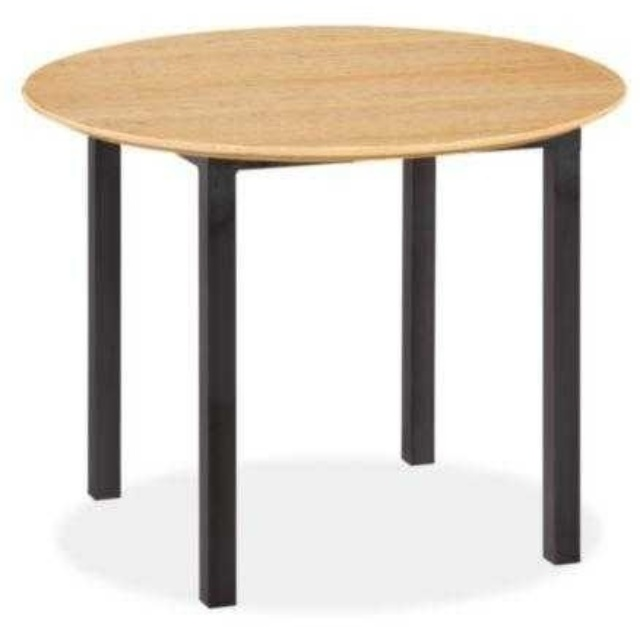obstacle: (23, 27, 624, 605)
